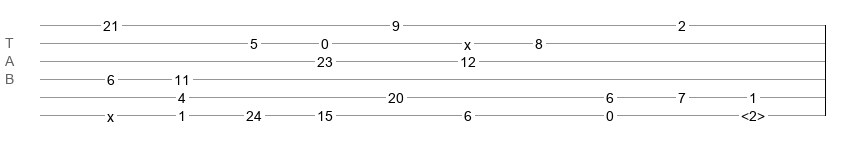0: (321, 36, 329, 46), (606, 108, 614, 118)
1: (178, 108, 186, 118), (749, 90, 757, 100)
11: (174, 72, 190, 82)
12: (460, 54, 476, 64)
15: (317, 108, 333, 118)
2: (678, 18, 686, 28)
20: (388, 90, 404, 100)
21: (103, 18, 119, 28)
23: (317, 54, 333, 64)
24: (246, 108, 262, 118)
4: (178, 90, 186, 100)
5: (250, 36, 258, 46)
6: (107, 72, 115, 82), (464, 108, 472, 118), (606, 90, 614, 100)
7: (678, 90, 686, 100)
8: (535, 36, 543, 46)
9: (392, 18, 400, 28)
harmonic: (741, 108, 765, 118)
x: (107, 109, 114, 117), (464, 37, 471, 45)
